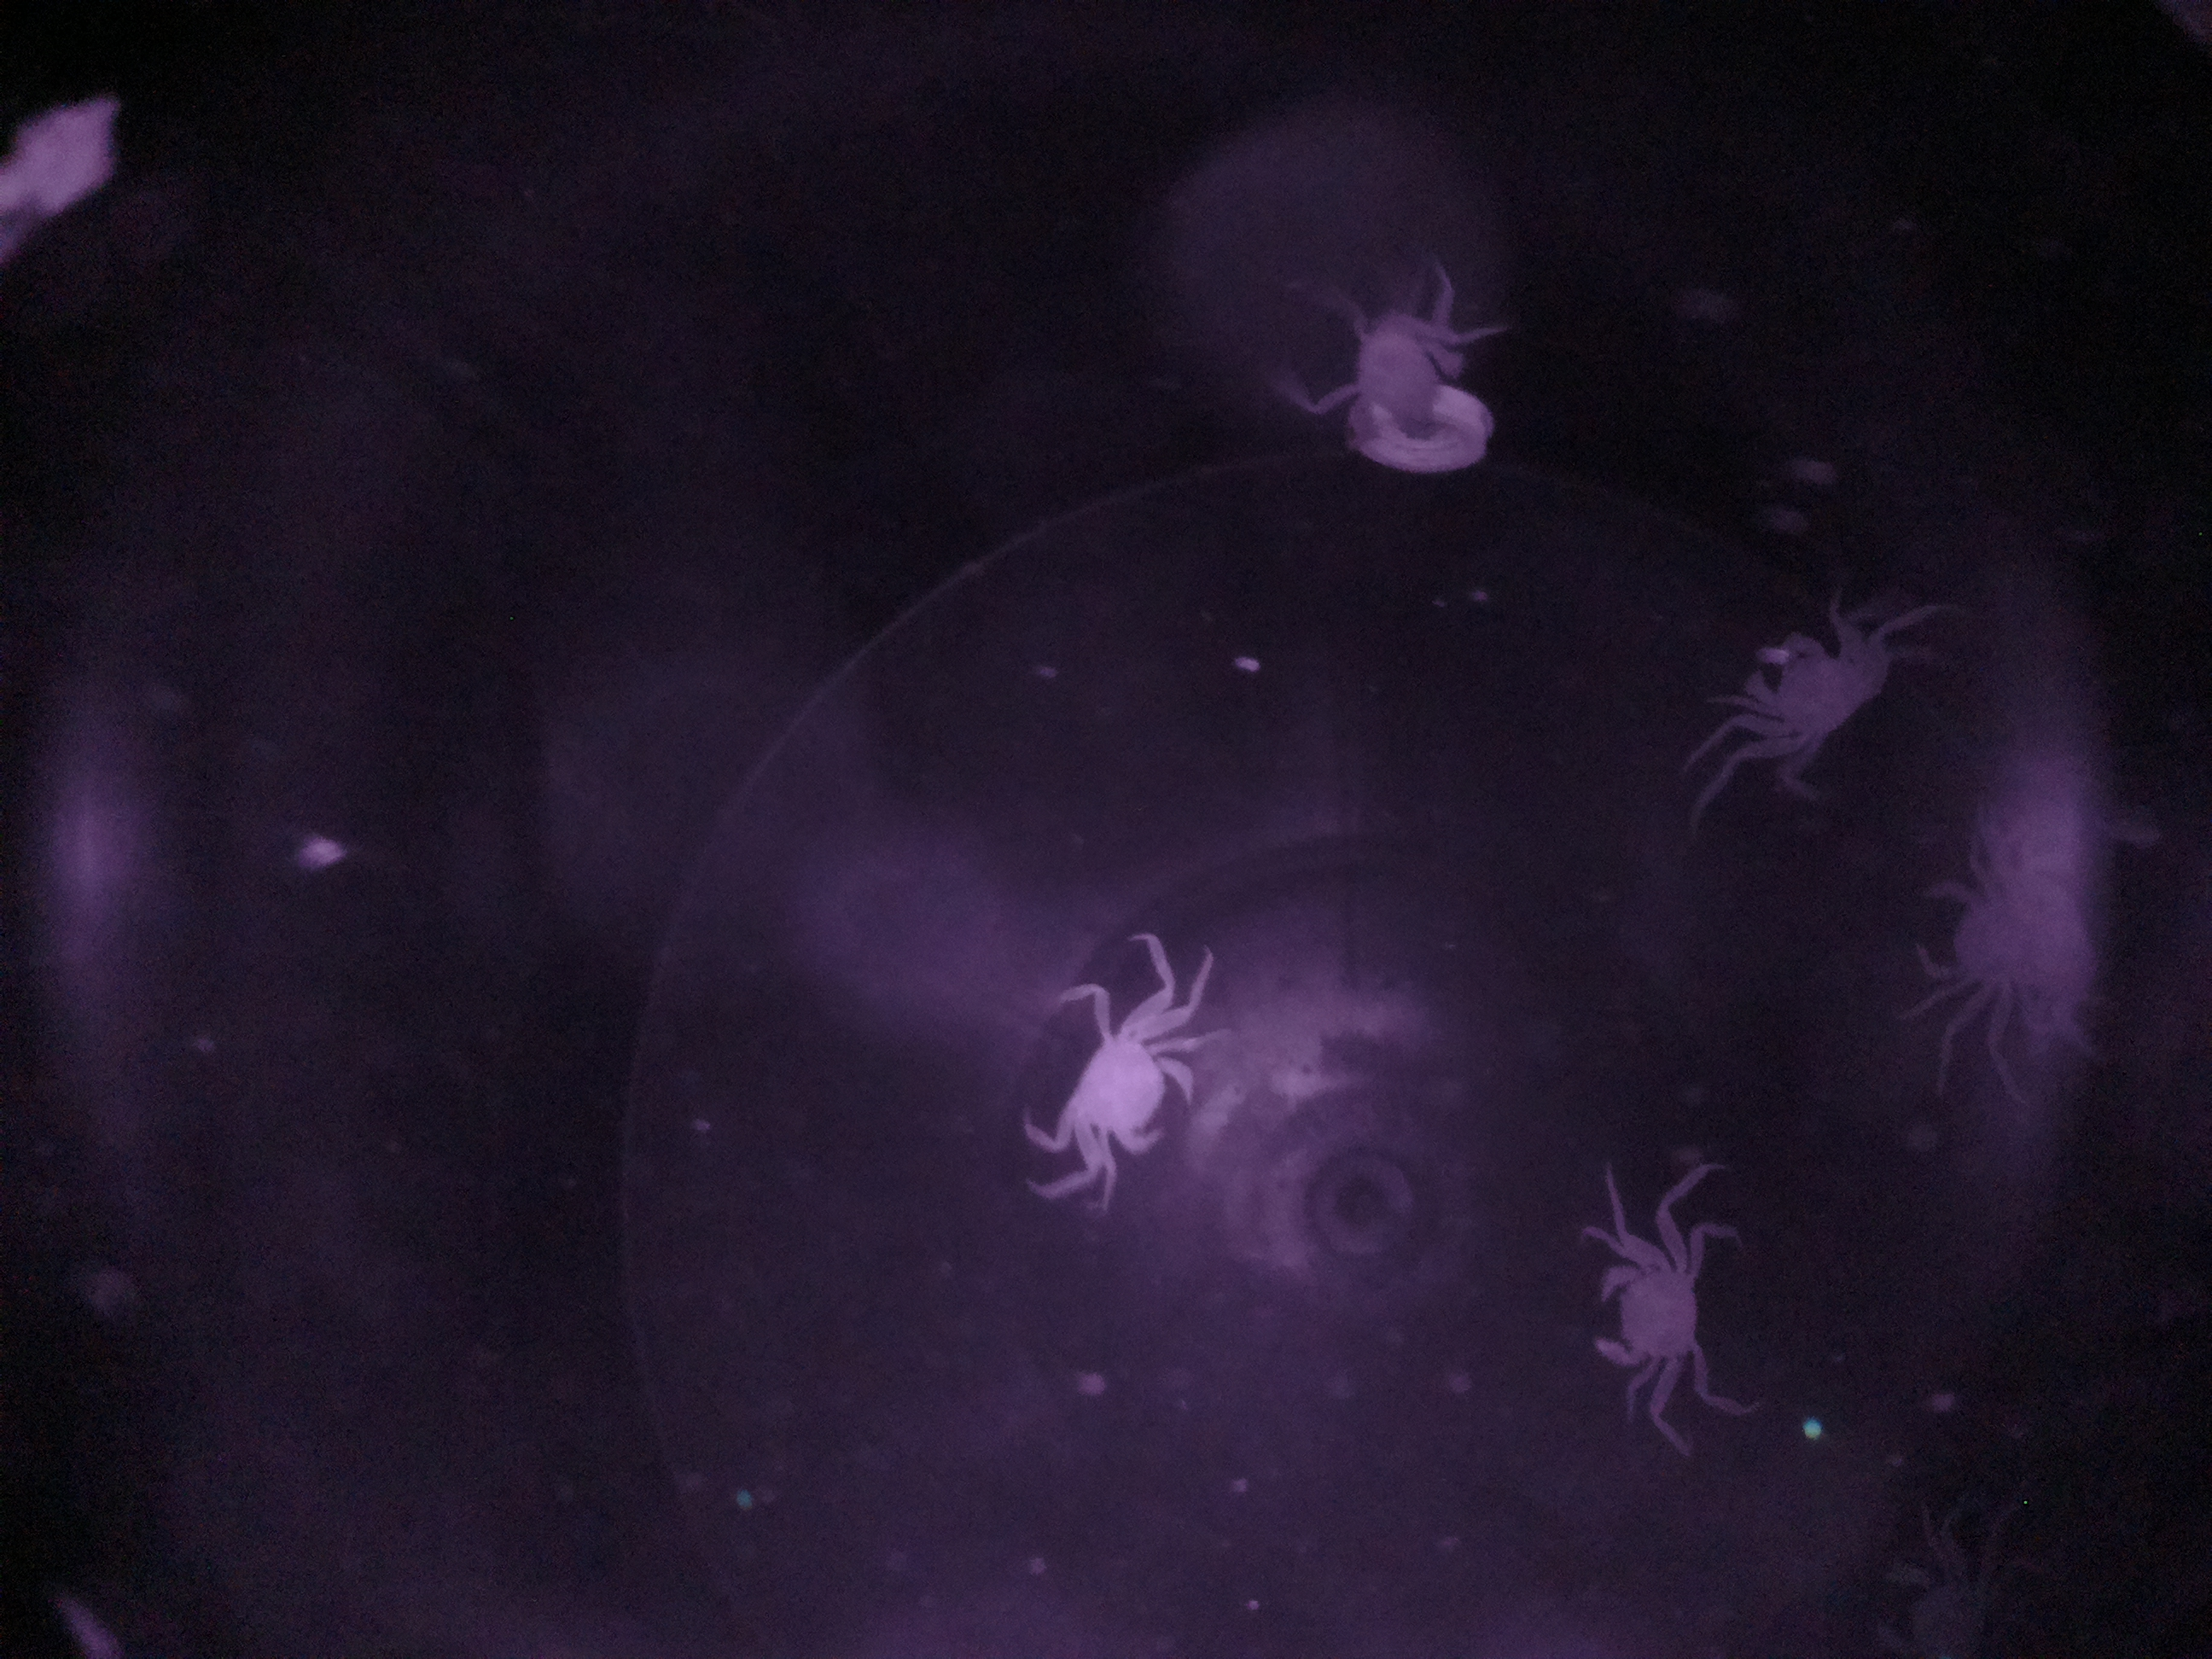Crab: (1015, 962, 1223, 1185), (1573, 1199, 1740, 1419), (1712, 594, 1892, 796)
